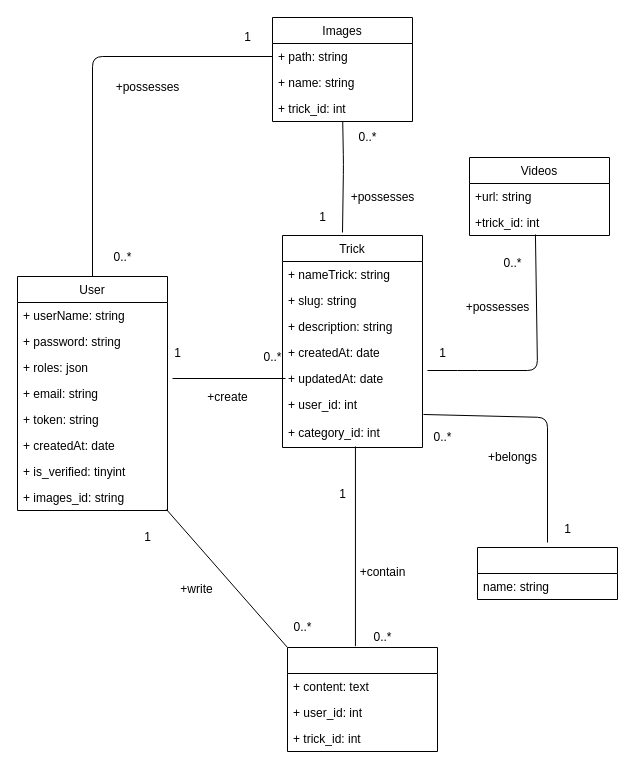
Image size: 635x772. Some labels were removed from this diagram. Here are the shapes that lost their labels. From the top down, the box of each, then its label:
(476, 546, 618, 600): Catégorie
(286, 646, 438, 752): Comment
